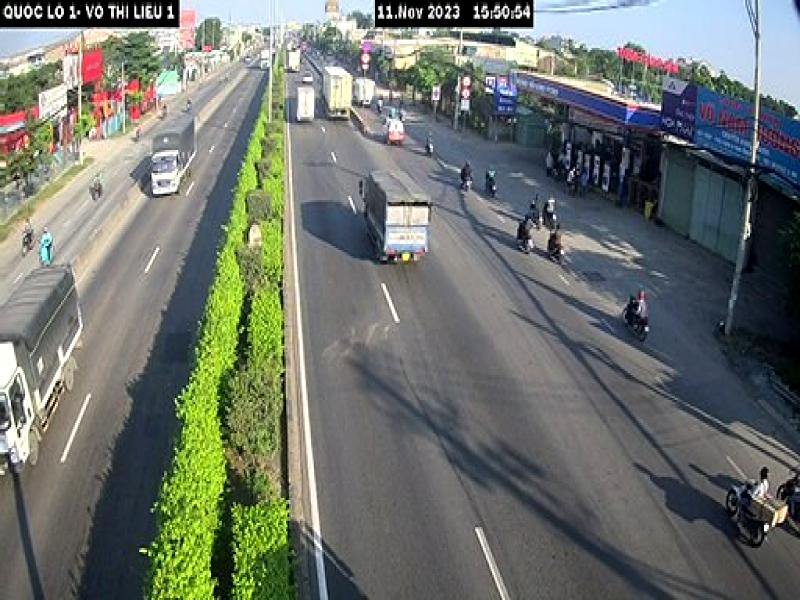truck: (0, 255, 86, 484), (360, 171, 432, 263), (150, 118, 199, 196), (320, 66, 356, 127)
